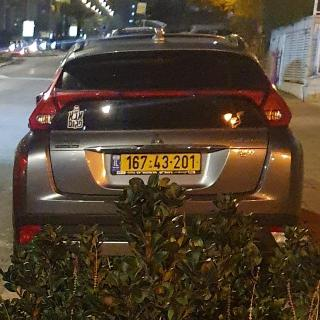LicensePlate: (122, 154, 200, 170)
